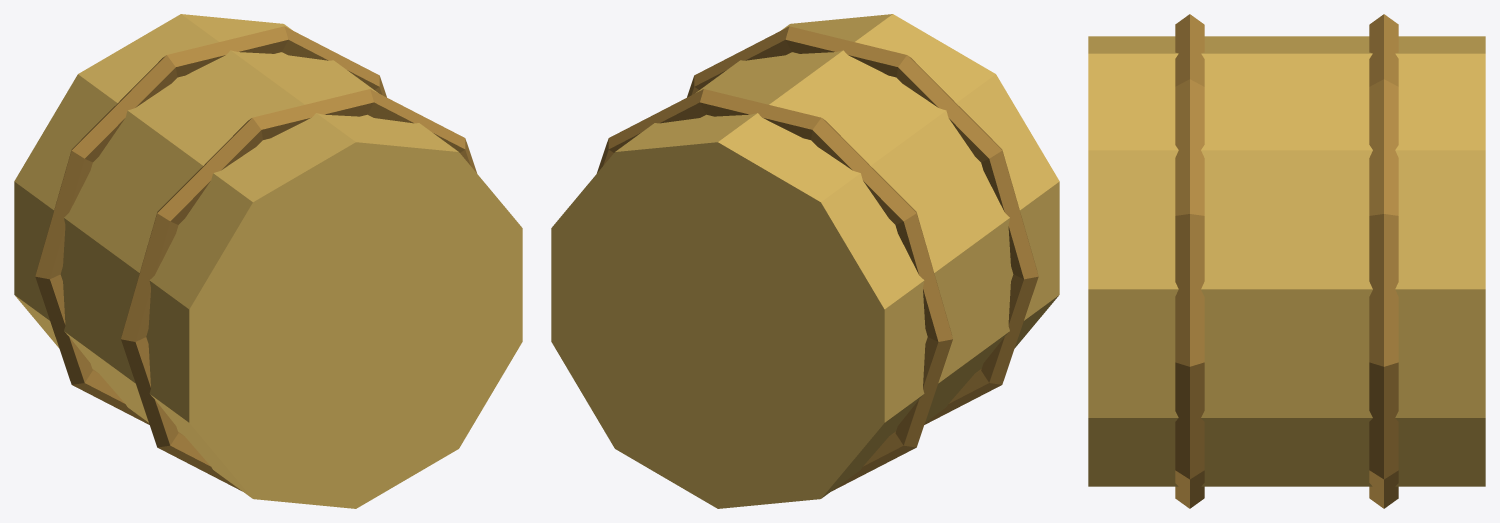
The model's file is hay_bale.glb.
The picture shows the model from 3 angles, left to right: view 1: azimuth 30°, elevation 25°; view 2: azimuth 150°, elevation 25°; view 3: azimuth 270°, elevation 25°; orthographic projection. The views are drawn at different scales.
Parts seen in each view (by area): view 1: Cylinder; view 2: Cylinder; view 3: Cylinder.
Boxes of the visible parts, box(x1,y1,x2,y2) form: Cylinder: box(14, 14, 522, 508); Cylinder: box(551, 14, 1059, 508); Cylinder: box(1088, 14, 1485, 508).
Bounding box in the file's own units: 0.7006 × 0.6663 × 0.558.
